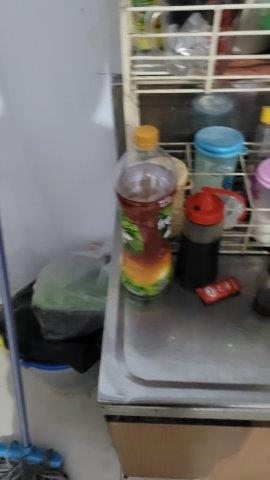botolplastik: (112, 125, 176, 297)
